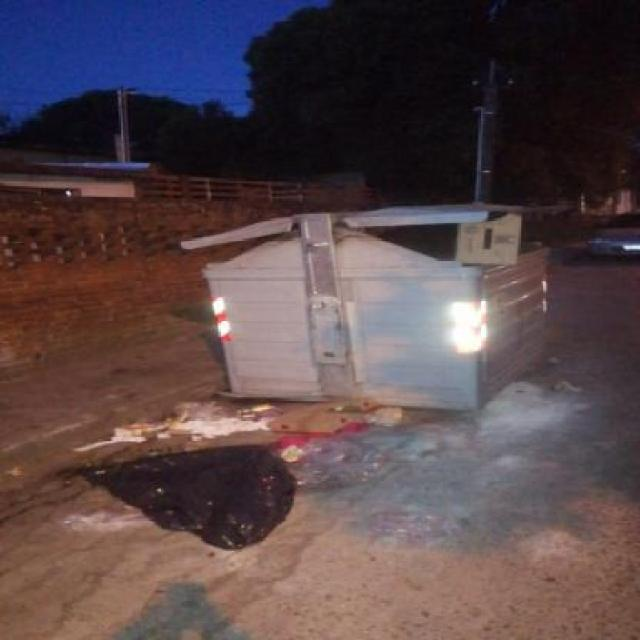garbage: (0, 372, 449, 576)
